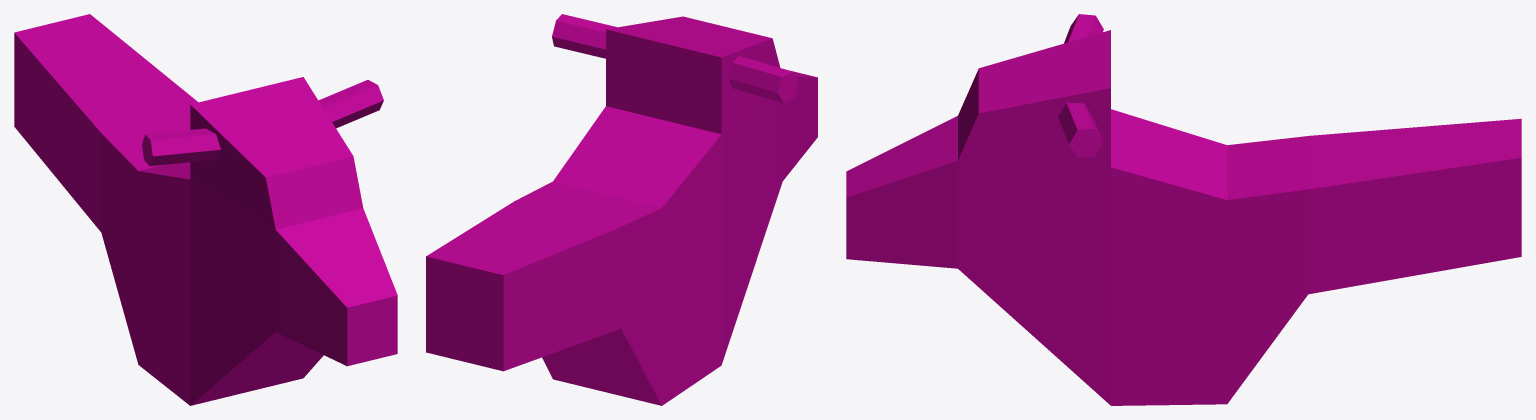
The model's file is SM_Veh_Dirtbike_01_Preset_05_Collision.fbx.
3 views of the same model, side by side, from view 1: azimuth 30°, elevation 25°; view 2: azimuth 150°, elevation 25°; view 3: azimuth 270°, elevation 25° (orthographic). The views are drawn at different scales.
Parts seen in each view (by area): view 1: SM_Veh_Dirtbike_01_Preset_05_Collision; view 2: SM_Veh_Dirtbike_01_Preset_05_Collision; view 3: SM_Veh_Dirtbike_01_Preset_05_Collision.
Part boxes in pixels (x1=…): SM_Veh_Dirtbike_01_Preset_05_Collision: x1=14, y1=14, x2=397, y2=405; SM_Veh_Dirtbike_01_Preset_05_Collision: x1=426, y1=14, x2=817, y2=405; SM_Veh_Dirtbike_01_Preset_05_Collision: x1=846, y1=14, x2=1521, y2=405.
Bounding box in the file's own units: 81.72 × 102 × 197.
